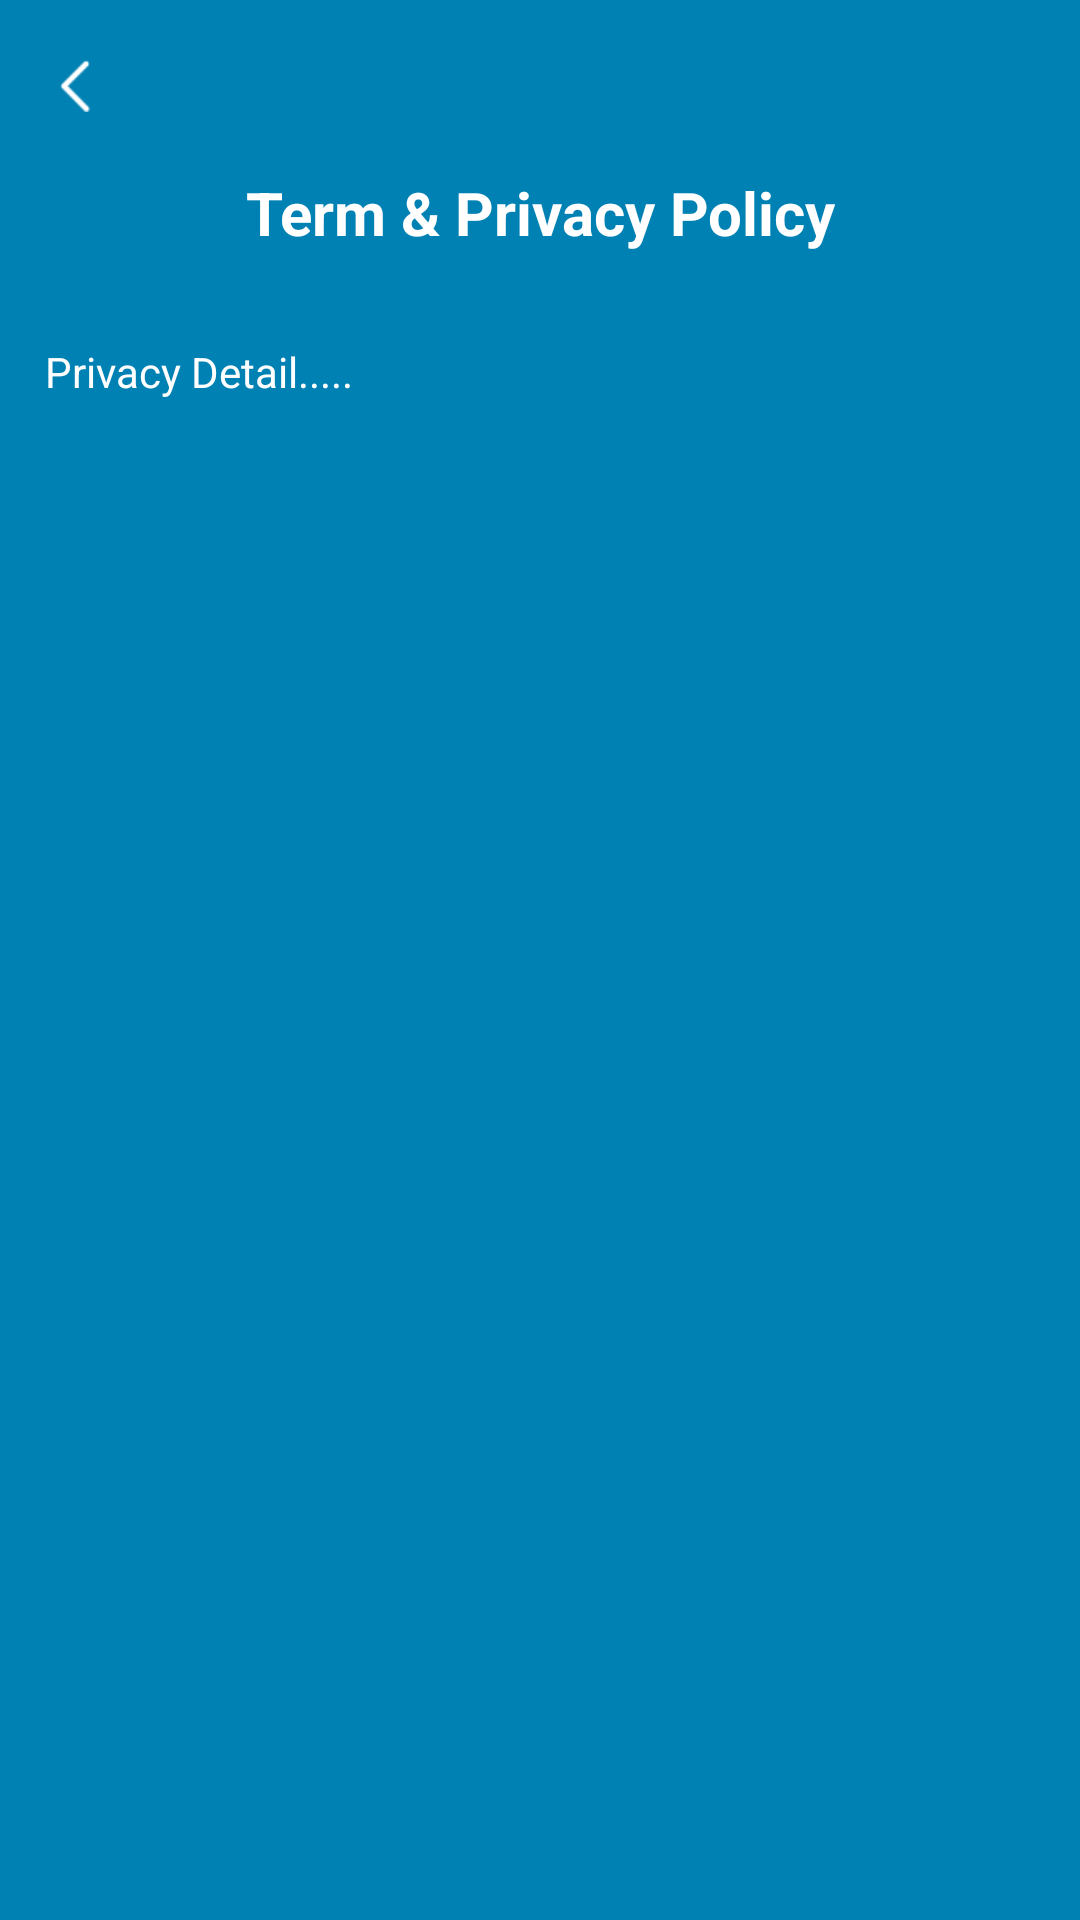

Where icons sit on this 1080 x 1920 app screen, as [x1=x1, y1=y1, x2=x2, y2=y2]:
back: [x1=60, y1=60, x2=90, y2=112]
